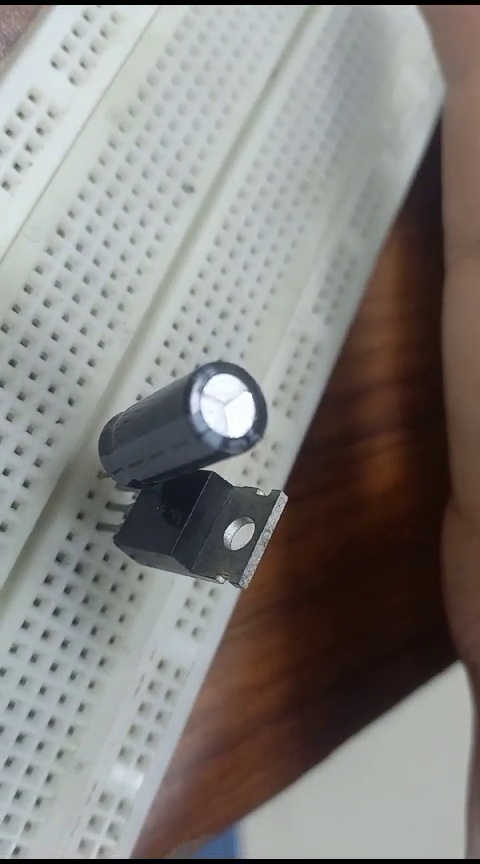capacitor: (91, 357, 270, 491)
voltage regulator: (123, 464, 296, 592)
